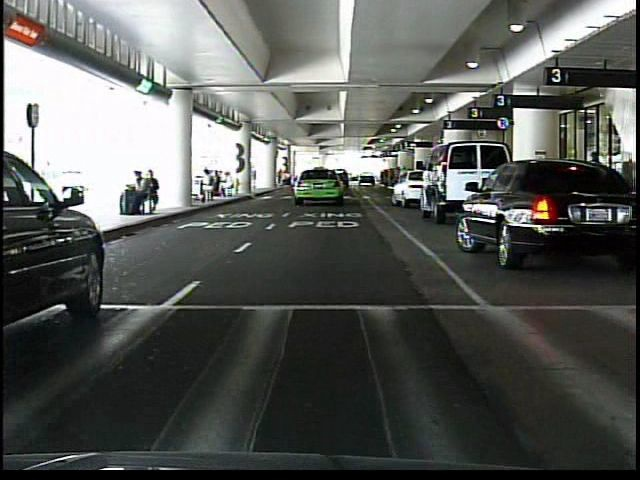person: (577, 148, 605, 210)
